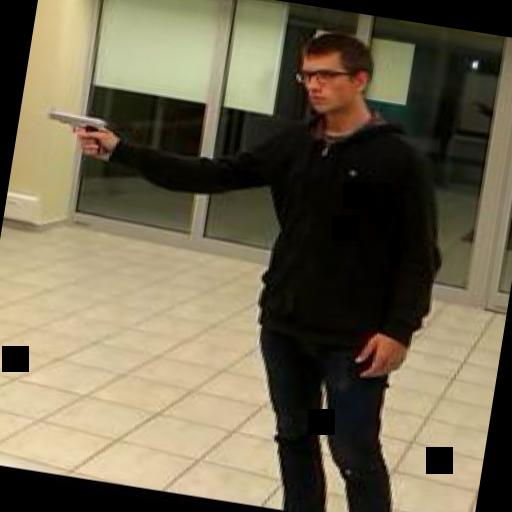Handgun: (37, 104, 110, 157)
